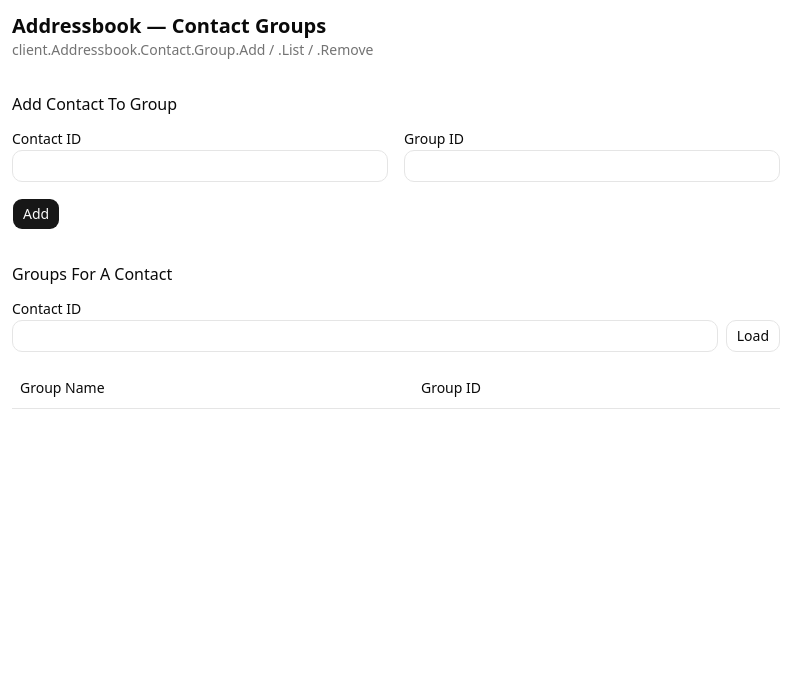
Test: ContactGroupsPage › loads the groups for a contact and lists them
This screenshot has width=800, height=692.
Step 1. Type "c-1" into the field labelled "Contact ID" below "Groups For A Contact" → x=365, y=336, box [12,320,718,352]
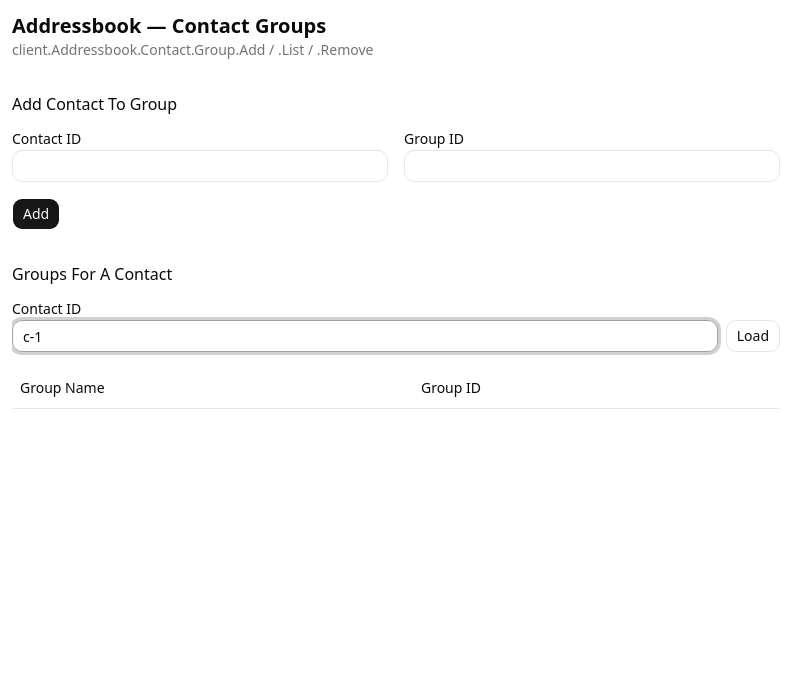
Step 2. Click the button "Load" → x=753, y=336, box [726,320,780,352]
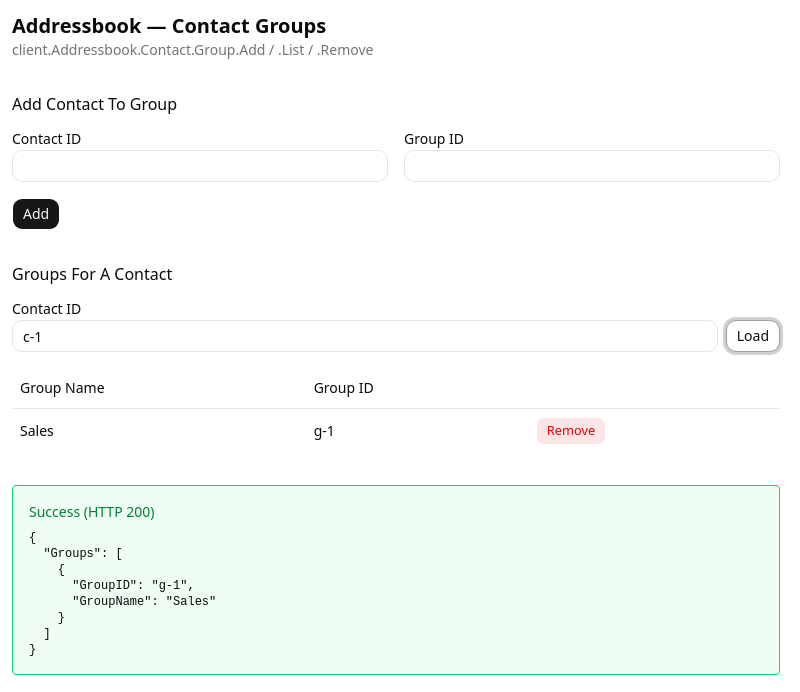
Check: the text "Sales" is shown, box [12,408,306,452]
